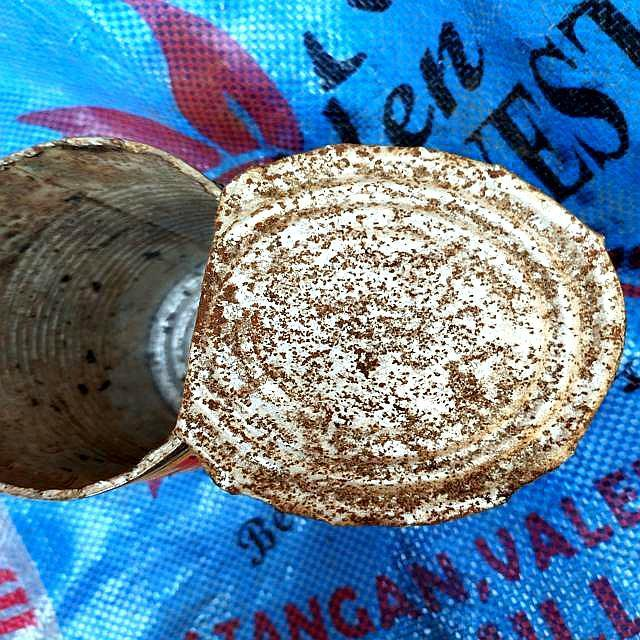Non-biodegradable: (1, 141, 625, 529)
